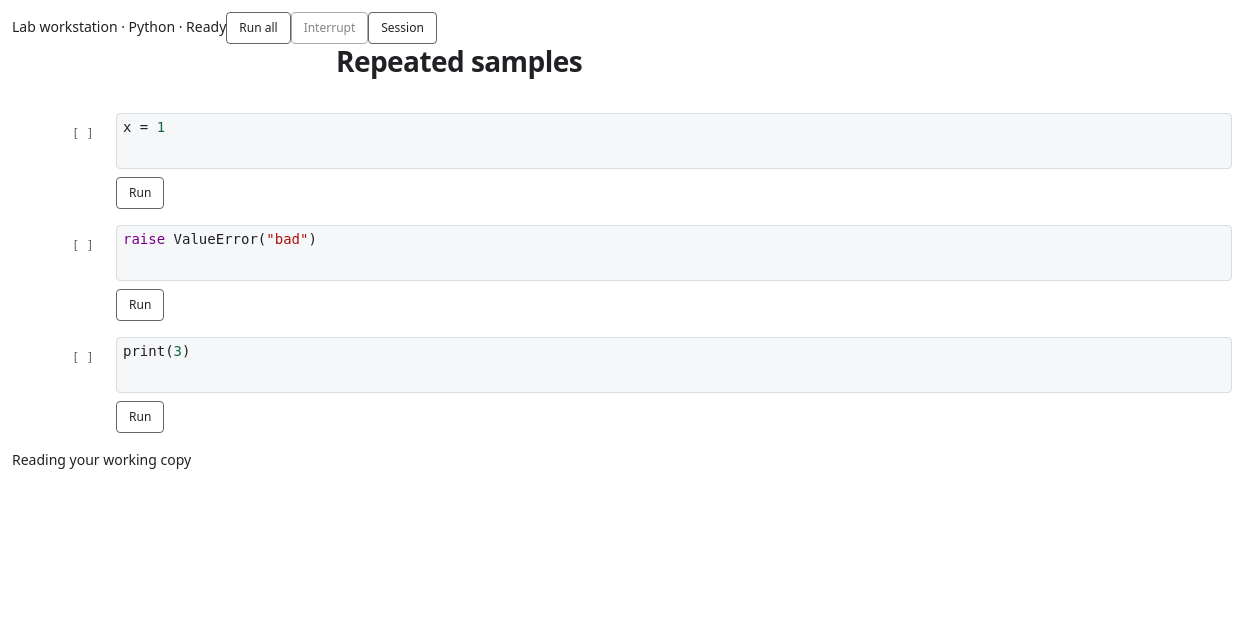
it: live notebook › A32 Disconnect leaves the kernel alone and says Parallax does not know whether it runs
What coordinates should you click on to do the following:
click the button "Session"
I would click on:
 (403, 28)
Its box is [368,12,437,44].
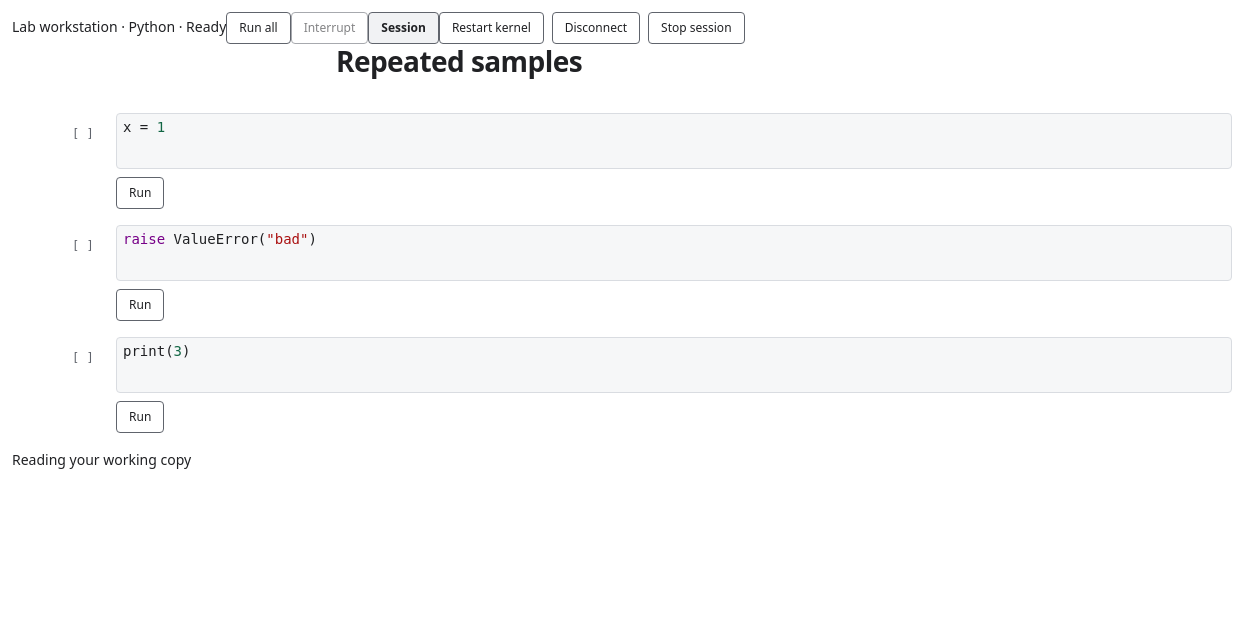
What coordinates should you click on to do the following:
click the button "Disconnect"
I would click on:
 (596, 28)
Its box is [552,12,640,44].
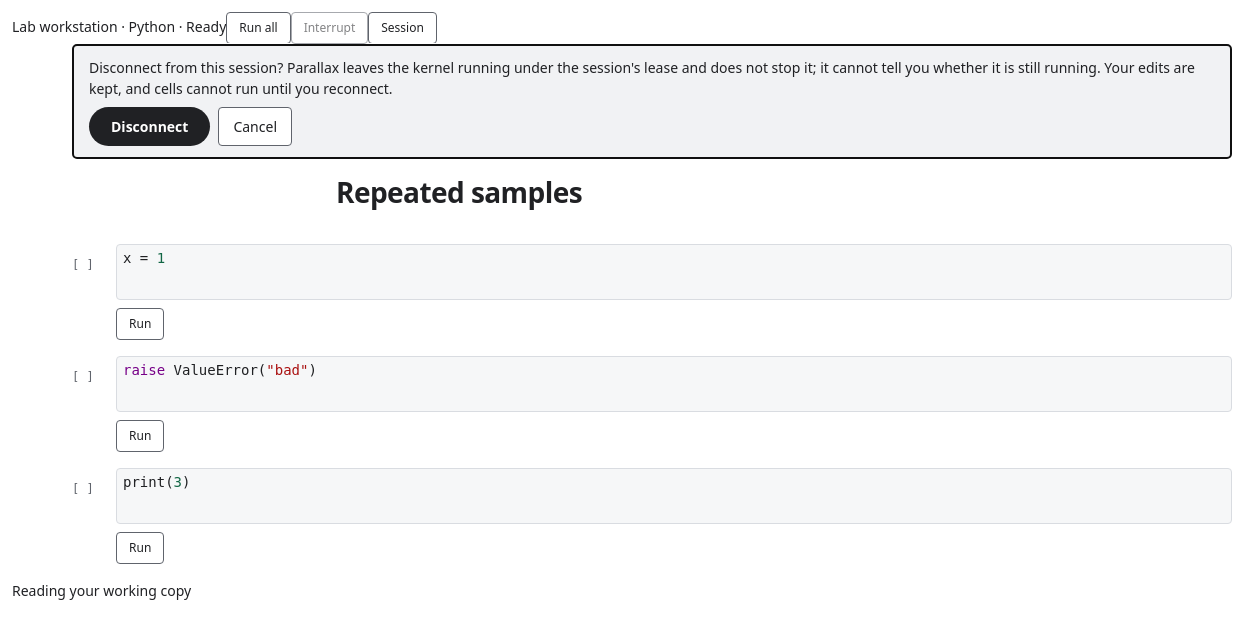
Check: the element labelled "Disconnect" shows "does not stop it", box [89,58,1195,98]
What coordinates should you click on to do the following:
click the button "Disconnect"
I would click on:
 (150, 126)
Its box is [89,107,210,146].
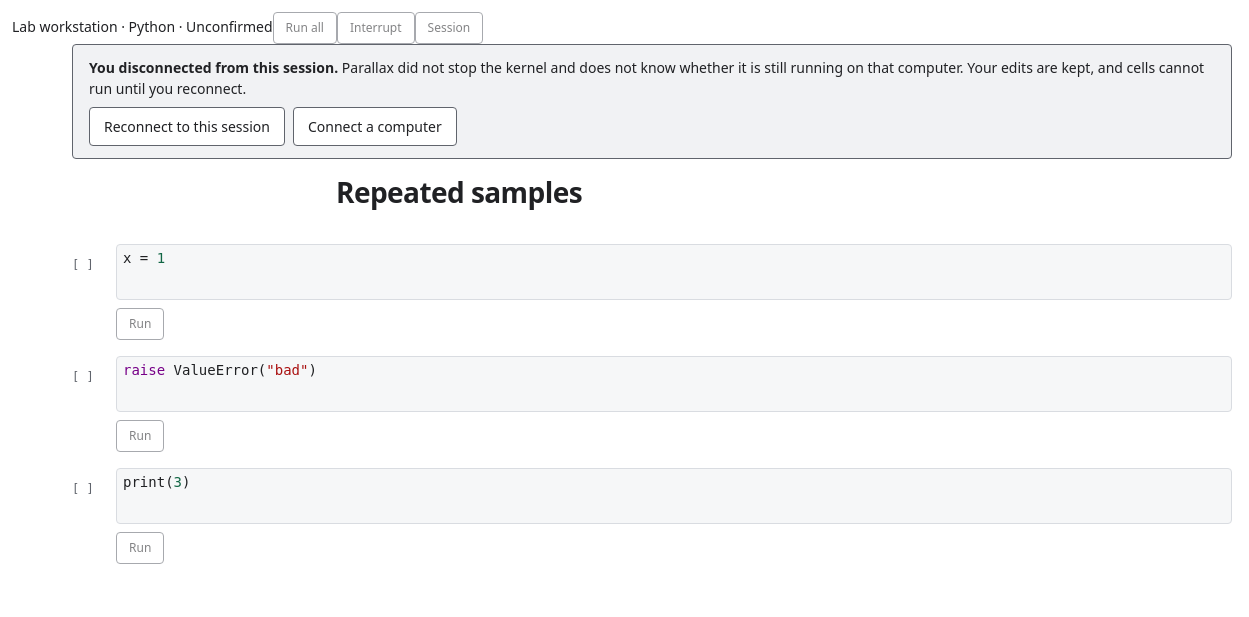
Check: the message shows "Parallax did not stop the kernel", box [89,58,1204,98]
Check: the message shows "does not know whether it is still running", box [89,58,1204,98]
Check: the button with aria-label "Run cell" is disabled, box [116,308,164,340]
